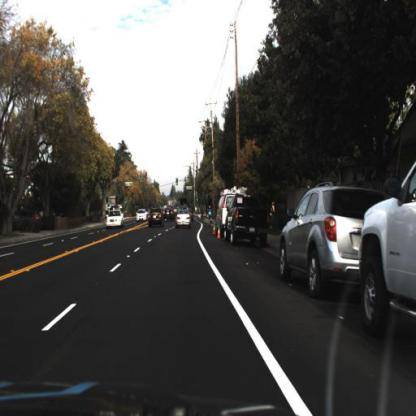biker: (204, 205, 212, 235), (206, 204, 215, 229)
car: (277, 183, 399, 301), (357, 147, 416, 341), (224, 192, 270, 251), (215, 186, 233, 243), (102, 206, 127, 233), (145, 205, 166, 230), (105, 210, 126, 231), (174, 208, 191, 231), (150, 209, 167, 230), (176, 210, 192, 231), (135, 207, 149, 228)
